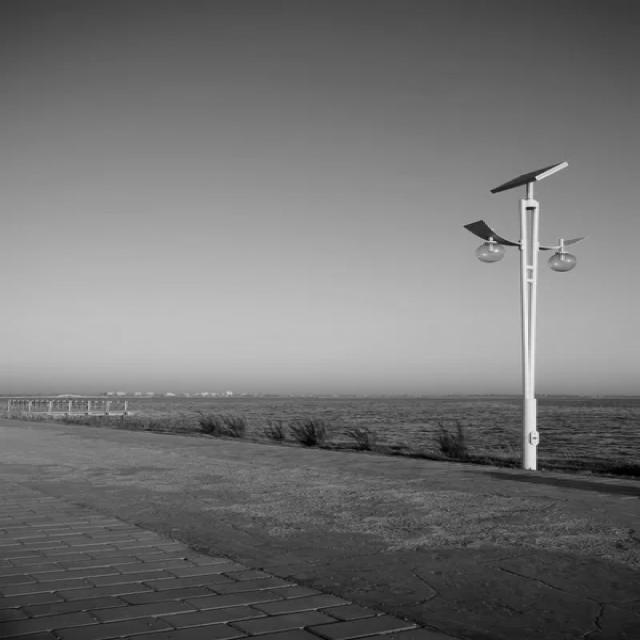Pole: (520, 181, 541, 471)
